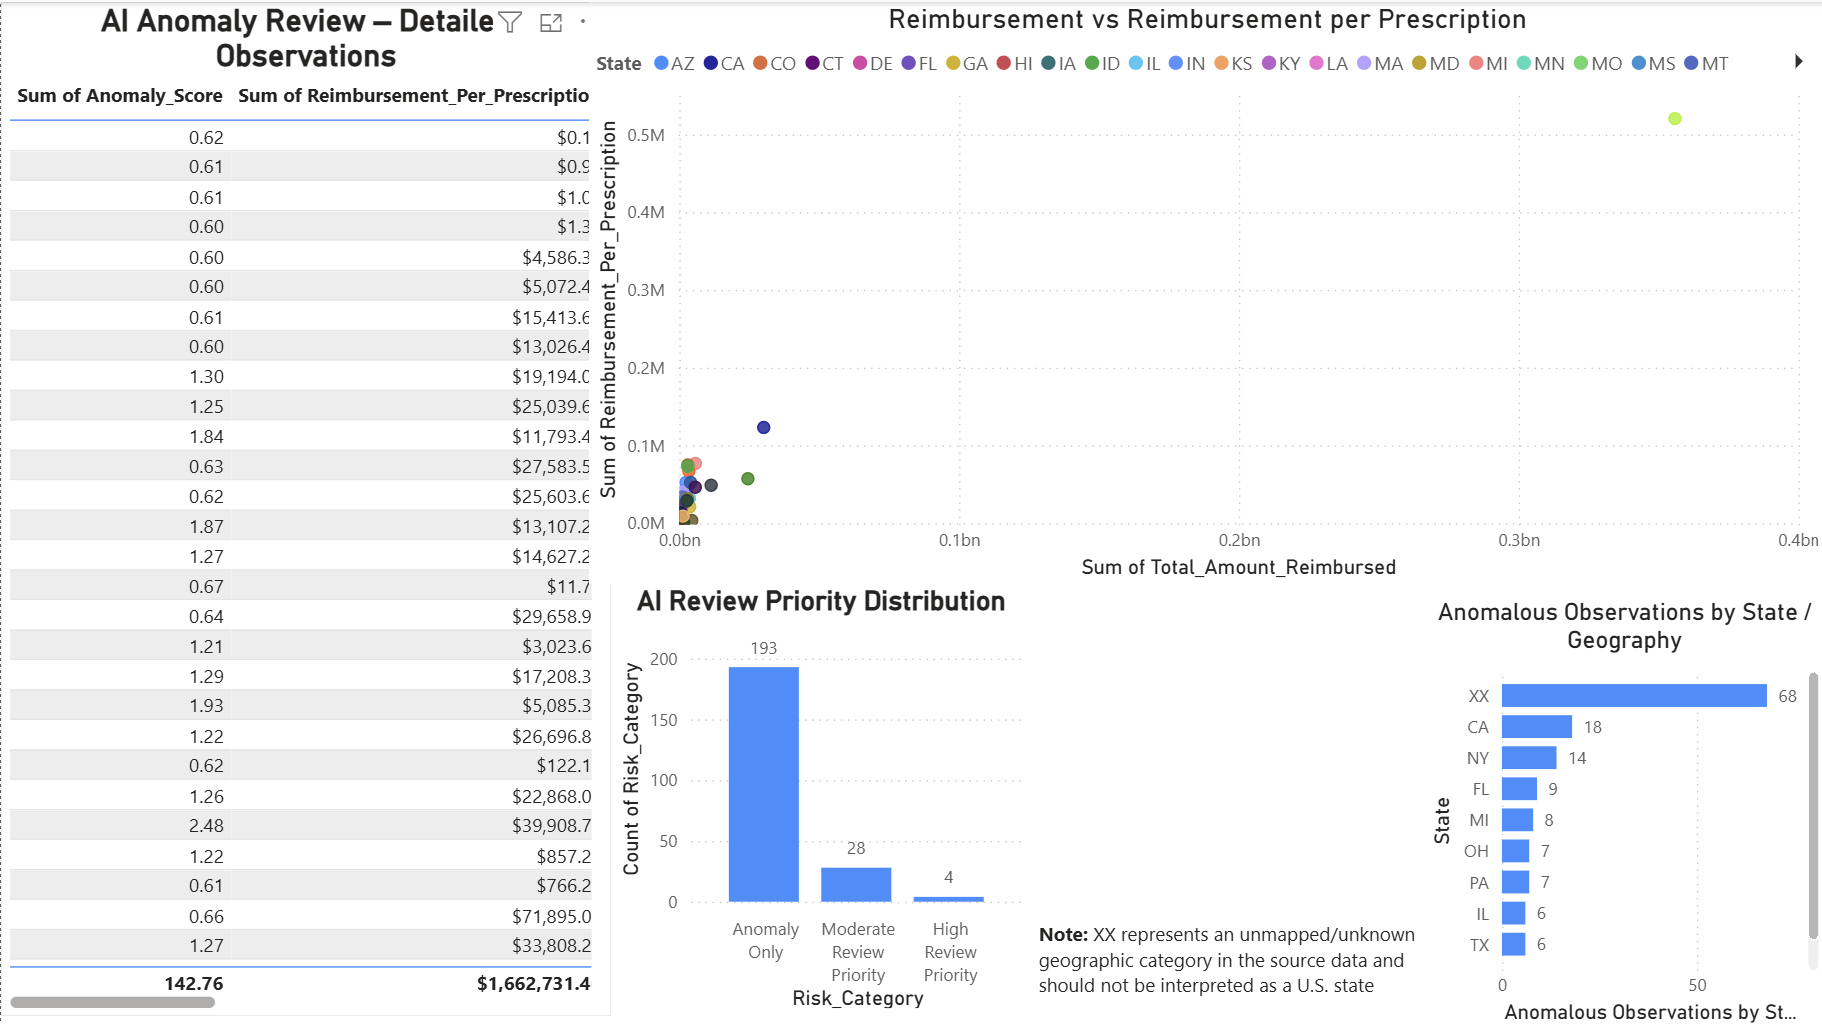

The page's visual inventory and layout, read from the dashboard file:
{"tool":"powerbi","page":{"name":"AI Anomaly Review Results","canvas":[1280,720],"ordinal":1},"visuals":[{"type":"tableEx","title":"AI Anomaly Review – Detailed Observations","fields":{"Values":["Sum(AI Anomaly Review Results.Anomaly_Score)","Sum(AI Anomaly Review Results.Reimbursement_Per_Prescription)","AI Anomaly Review Results.State","Sum(AI Anomaly Review Results.Total_Amount_Reimbursed)","Sum(AI Anomaly Review Results.Quarter)","Sum(AI Anomaly Review Results.Review_Priority_Score)","AI Anomaly Review Results.Risk_Category"]},"box":[0,49.8,427.6,604.9],"z":0},{"type":"clusteredBarChart","title":"Anomalous Observations by State / Geography","fields":{"Y":["CountNonNull(AI Anomaly Review Results.State)"],"Category":["AI Anomaly Review Results.State"]},"box":[427.6,0,246.8,272.3],"z":1000},{"type":"clusteredColumnChart","title":"AI Review Priority Distribution","fields":{"Category":["AI Anomaly Review Results.Risk_Category"],"Y":["CountNonNull(AI Anomaly Review Results.Risk_Category)"]},"box":[427.6,473.9,222.5,245.7],"z":2000},{"type":"scatterChart","title":"Reimbursement vs Reimbursement per Prescription","fields":{"X":["Sum(AI Anomaly Review Results.Total_Amount_Reimbursed)"],"Y":["Sum(AI Anomaly Review Results.Reimbursement_Per_Prescription)"],"Series":["AI Anomaly Review Results.State"]},"box":[695.2,0,556.2,484.3],"z":3000},{"type":"textbox","box":[427.6,278.1,274.6,82.3],"z":4000}]}

Visuals, with their boxes in screenshot pixels (x1, y1, x2, y2), scaled from the page's 1280x720 canvas onto the 1822x1024 screenshot:
"AI Anomaly Review – Detailed Observations" tableEx: locate(0, 71, 609, 931)
"Anomalous Observations by State / Geography" clusteredBarChart: locate(609, 0, 960, 387)
"AI Review Priority Distribution" clusteredColumnChart: locate(609, 674, 925, 1023)
"Reimbursement vs Reimbursement per Prescription" scatterChart: locate(990, 0, 1781, 689)
textbox: locate(609, 396, 1000, 513)
